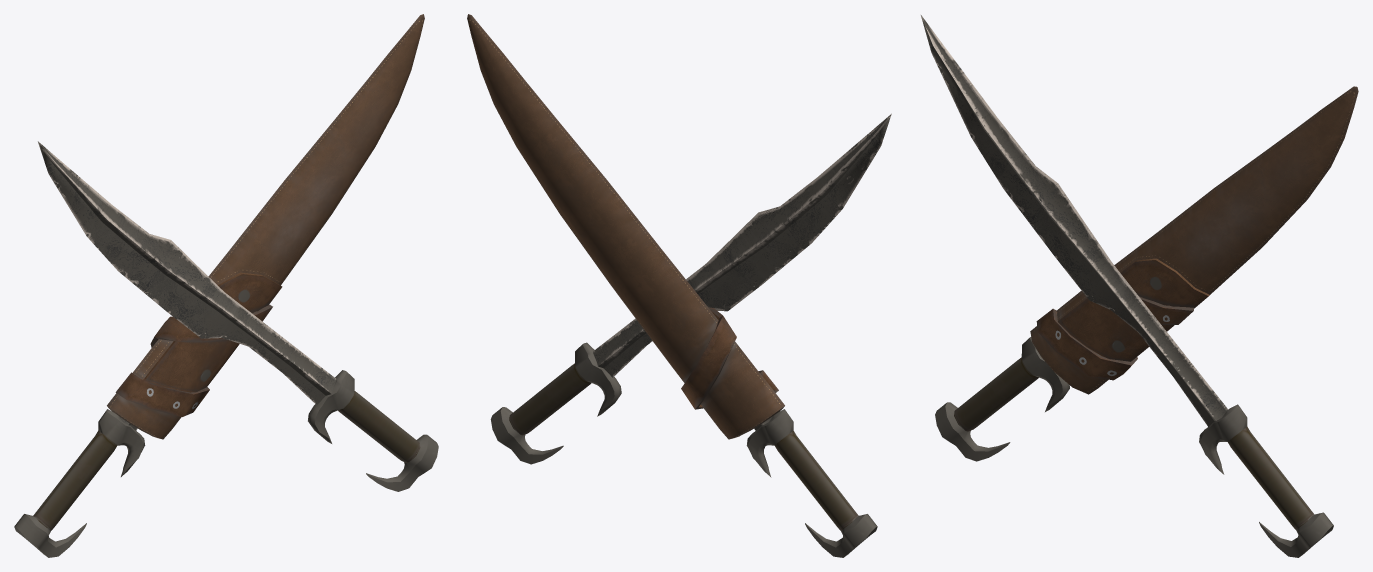
The model's file is falcata_sword.glb.
The picture shows the model from 3 angles, left to right: view 1: azimuth 30°, elevation 25°; view 2: azimuth 150°, elevation 25°; view 3: azimuth 330°, elevation 25°; orthographic projection. The views are drawn at different scales.
Parts seen in each view (by area): view 1: FalcataSword; view 2: FalcataSword; view 3: FalcataSword.
Part boxes in pixels (x1,y1,x2,y2): FalcataSword: (14, 14, 438, 557); FalcataSword: (467, 14, 891, 557); FalcataSword: (921, 15, 1358, 557).
Size of the model in its own units: 0.5254 by 0.5544 by 0.0809.
Materials: 1 (1 with a texture image).
